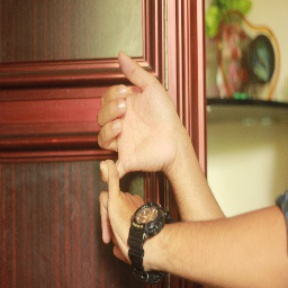S: (90, 46, 179, 273)
